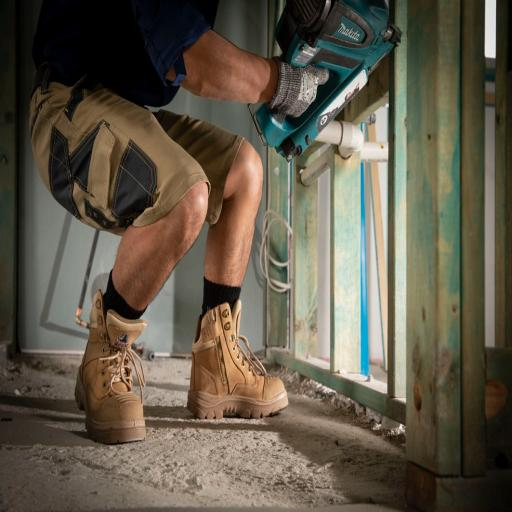safety_boots: (69, 307, 158, 448), (186, 310, 295, 424)
